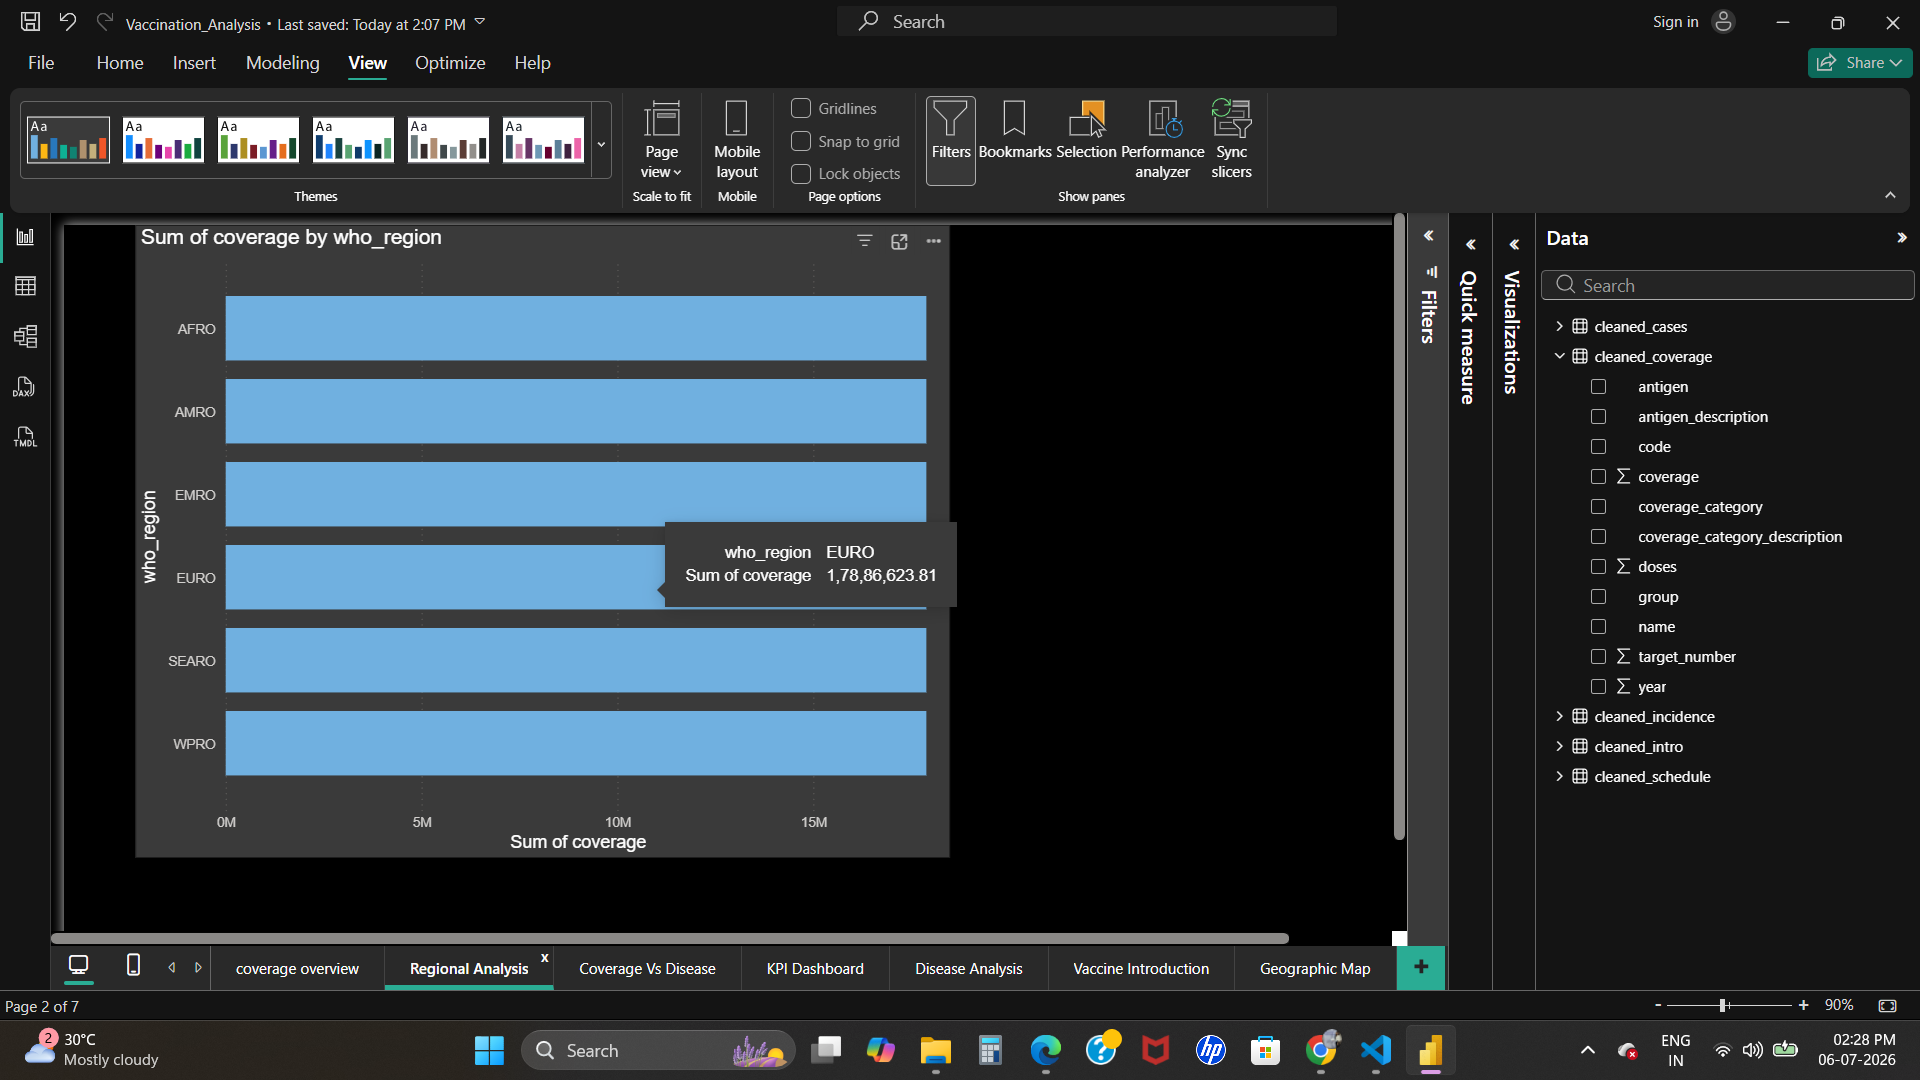

Layout of this report page (visuals, bound fields, positions):
{"tool":"powerbi","page":{"name":"Regional Analysis","canvas":[1280,720],"ordinal":1},"visuals":[{"type":"barChart","fields":{"Category":["cleaned_intro.who_region"],"Y":["Sum(cleaned_coverage.coverage)"]},"box":[63.5,0,724.4,562.3],"z":0}]}

Visuals, with their boxes on the page's 1280x720 design canvas (x1, y1, x2, y2). These are canvas units, not pixel positions in the 1920x1080 screenshot, which may show the page scaled, cropped or inside an application window:
barChart - cleaned_intro.who_region x Sum(cleaned_coverage.coverage): <box>64,0,788,562</box>
